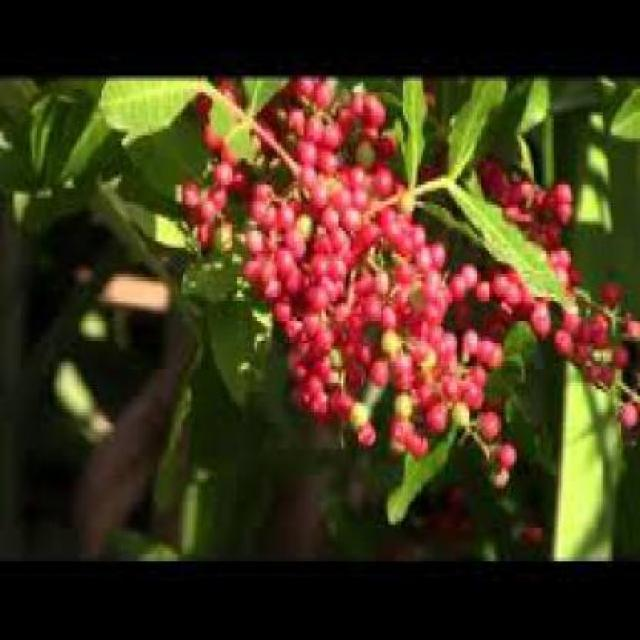RIPE: (292, 102, 423, 436)
